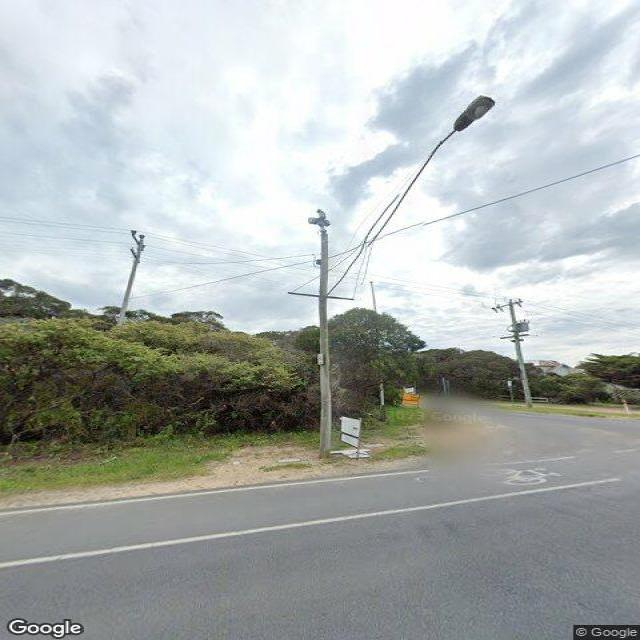HV-transmission: (491, 298, 524, 314), (130, 230, 146, 251)
crossarm: (287, 292, 354, 301), (492, 301, 523, 309), (132, 237, 144, 250), (130, 249, 141, 263), (500, 334, 530, 339), (511, 340, 524, 342)
mid mount suitable pole: (117, 228, 147, 319)
streetlight: (325, 94, 497, 298)
timber-pole: (318, 209, 331, 459), (509, 298, 533, 409), (369, 281, 386, 421), (117, 234, 145, 318)
top mount suitable pole: (288, 94, 498, 460)
transformer: (507, 319, 531, 332)
unsuitable: (492, 297, 534, 409)
